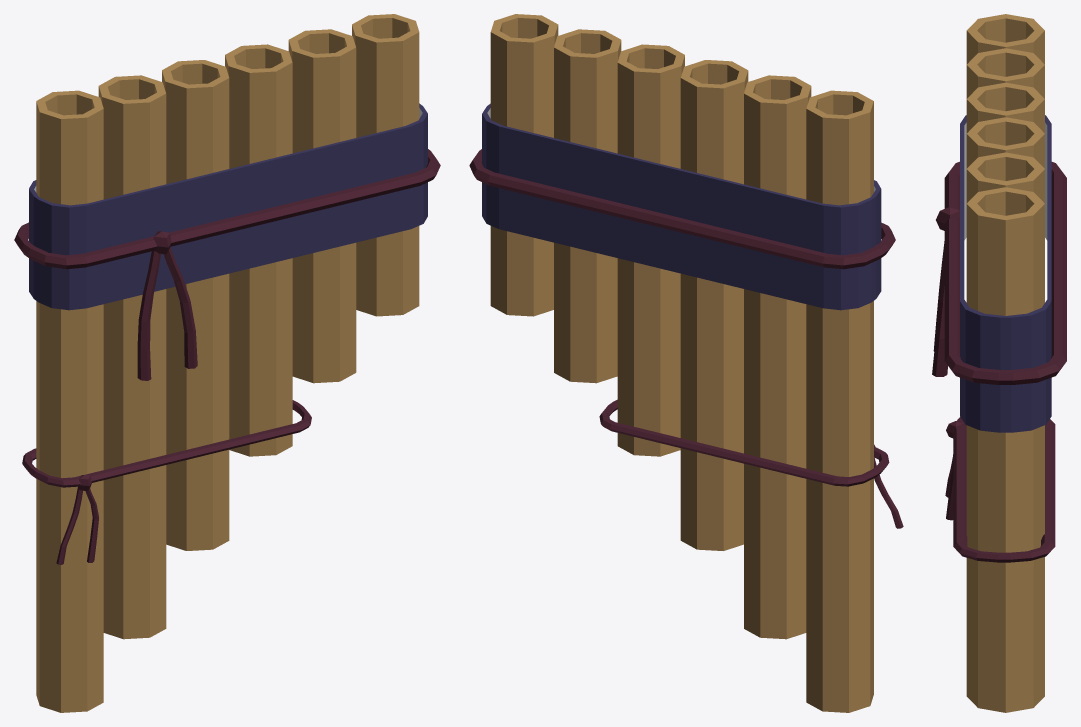
The model's file is Flauta.fbx.
3 renders of one model, left to right at view 1: azimuth 30°, elevation 25°; view 2: azimuth 150°, elevation 25°; view 3: azimuth 270°, elevation 25°, orthographic. The views are drawn at different scales.
Parts seen in each view (by area): view 1: Flauta; view 2: Flauta; view 3: Flauta.
Part boxes in pixels (box(x1,y1,x2,y2)): Flauta: box(14, 14, 440, 712); Flauta: box(469, 14, 903, 712); Flauta: box(932, 14, 1066, 712).
Bounding box in the file's own units: 32.91 × 46 × 8.45.
